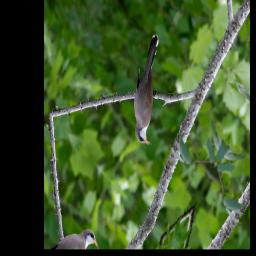Cuckoo: (112, 30, 190, 153)
